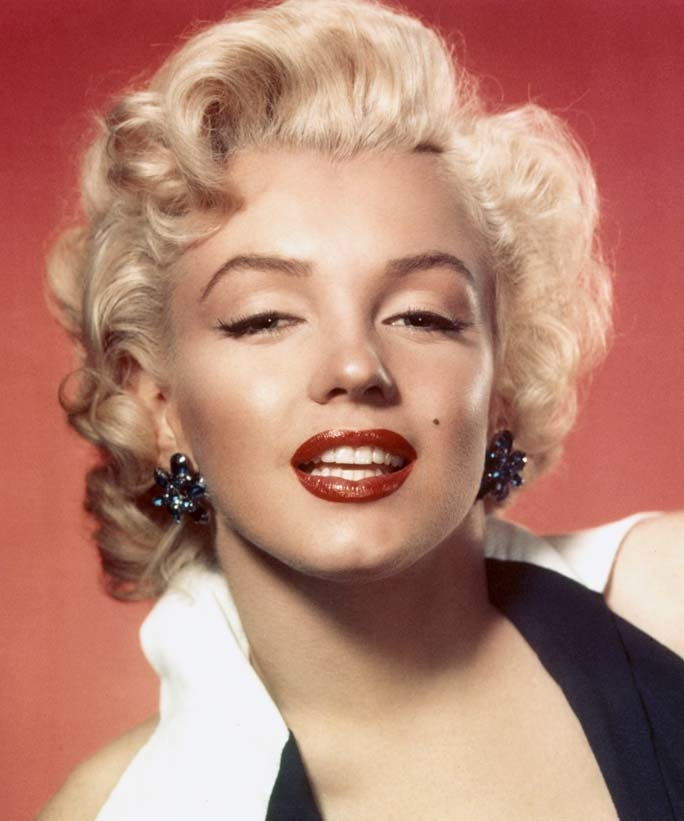mole: (426, 411, 448, 431)
